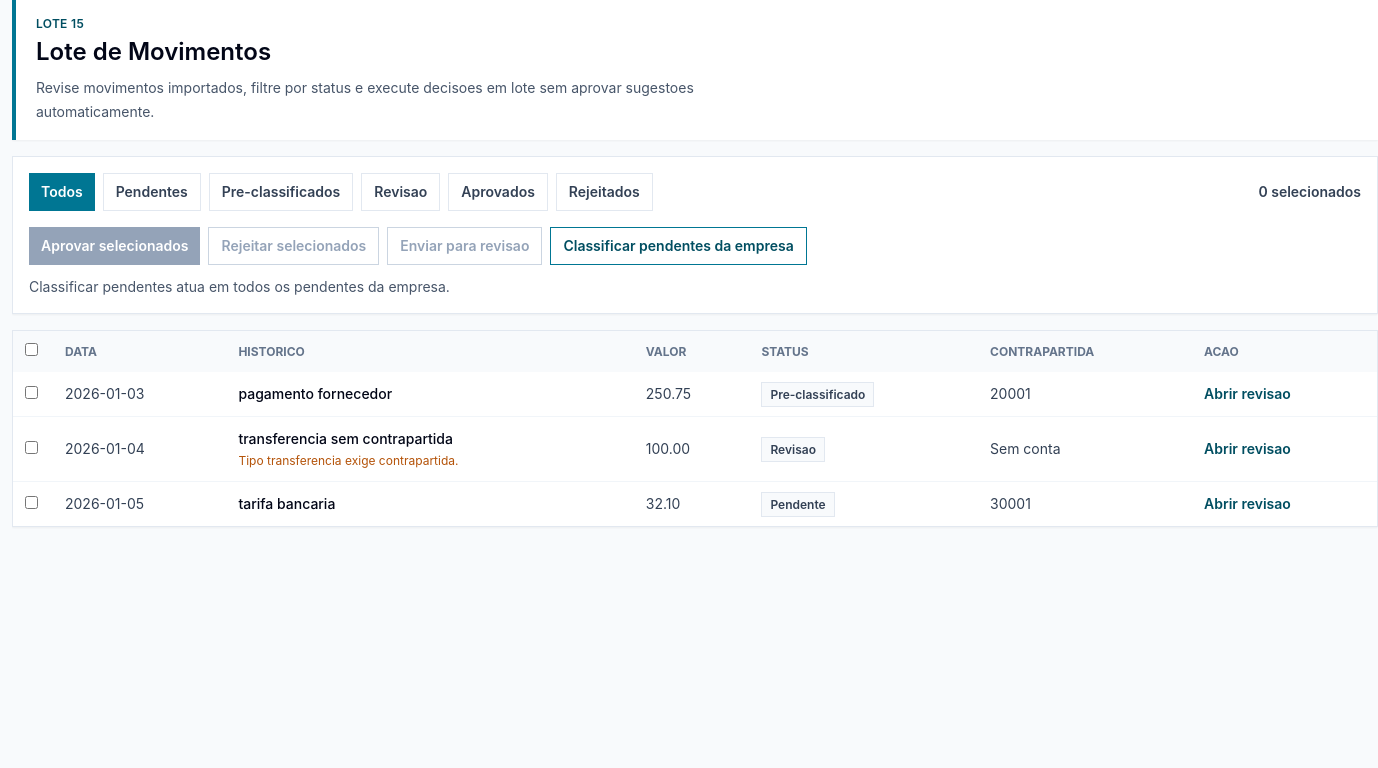
LoteMovimentosPage › mostra a razão de cada item não enviado
Expected: the text "pagamento fornecedor" is shown, x1=238 y1=385 x2=392 y2=402
Click the checkbox named "Selecionar movimento 91". click: [32, 392]
box: x1=25 y1=386 x2=38 y2=399
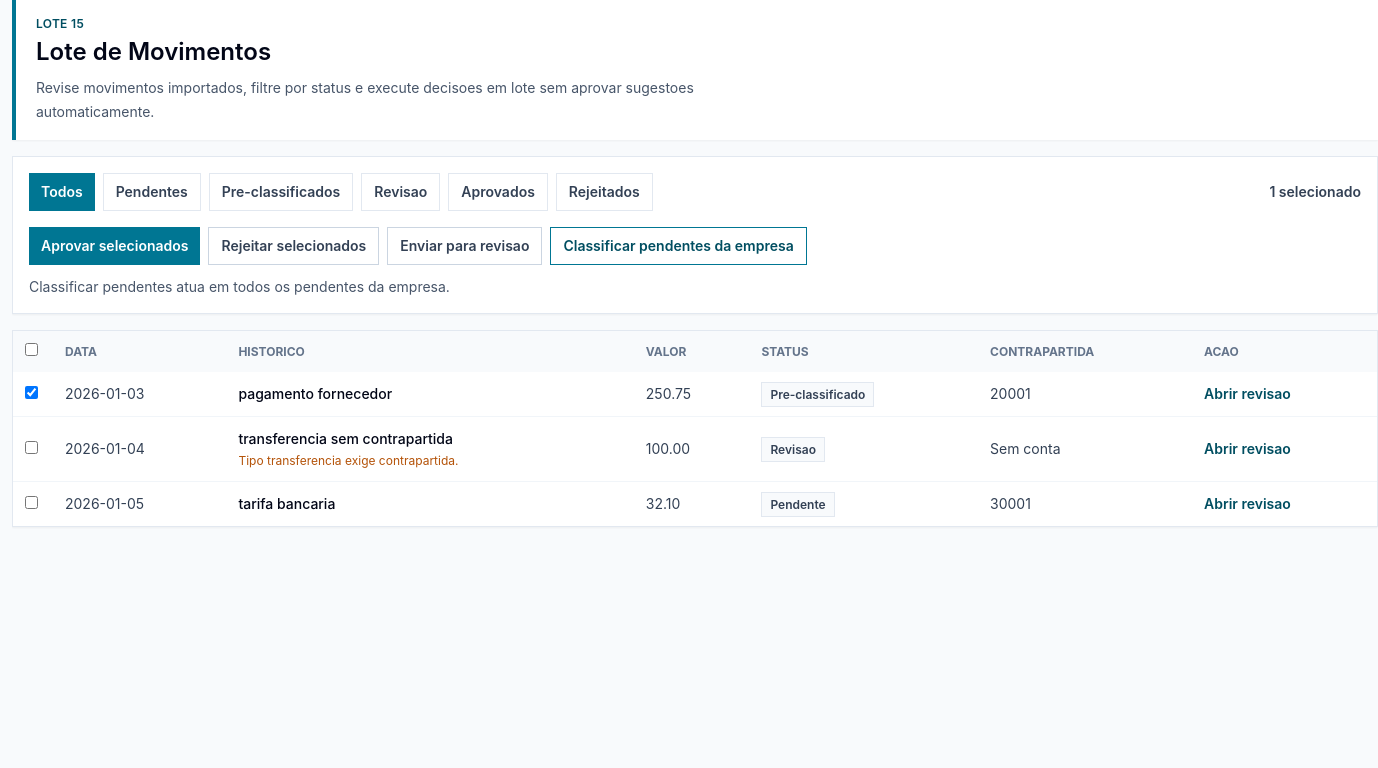
Click the checkbox named "Selecionar movimento 92". click: [32, 448]
box: x1=25 y1=441 x2=38 y2=454
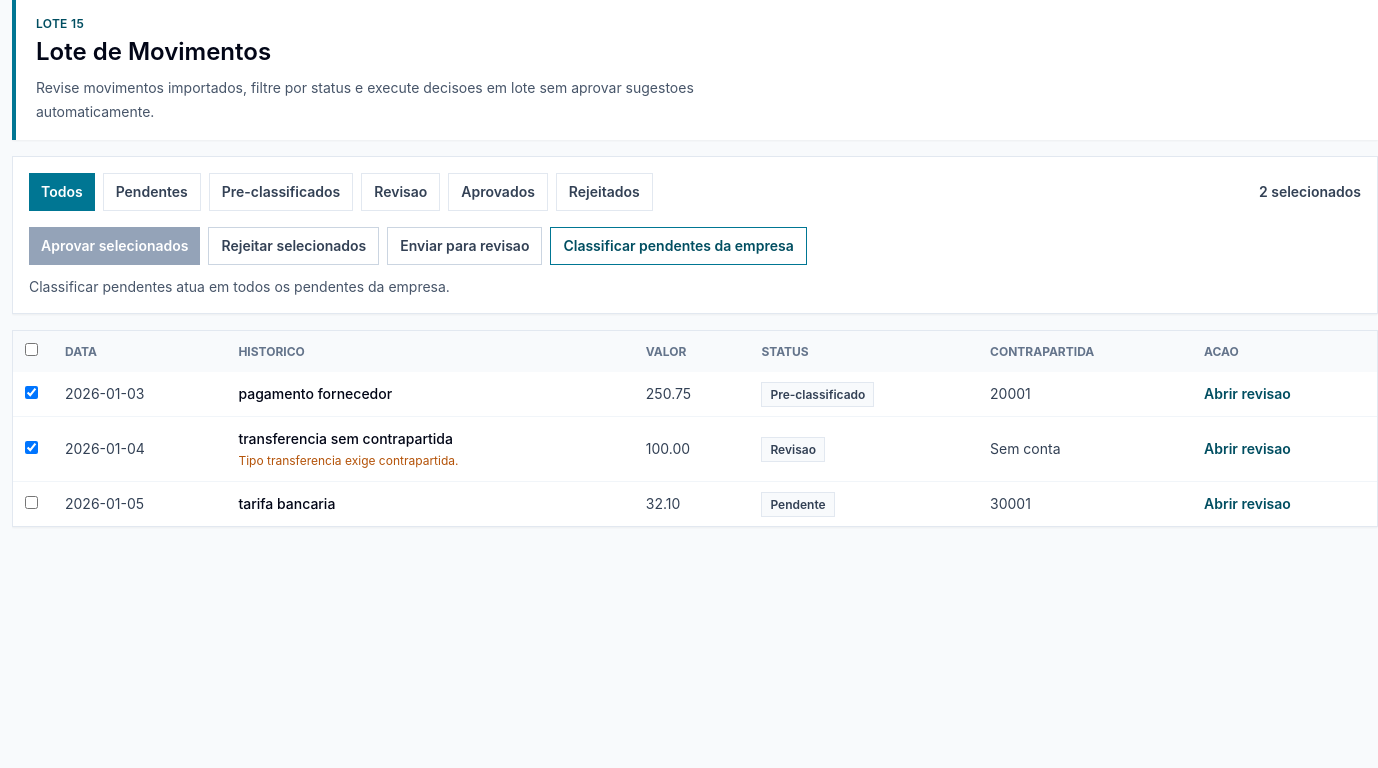
Click the button "Enviar para revisao". click: [465, 246]
box: x1=387 y1=227 x2=542 y2=265
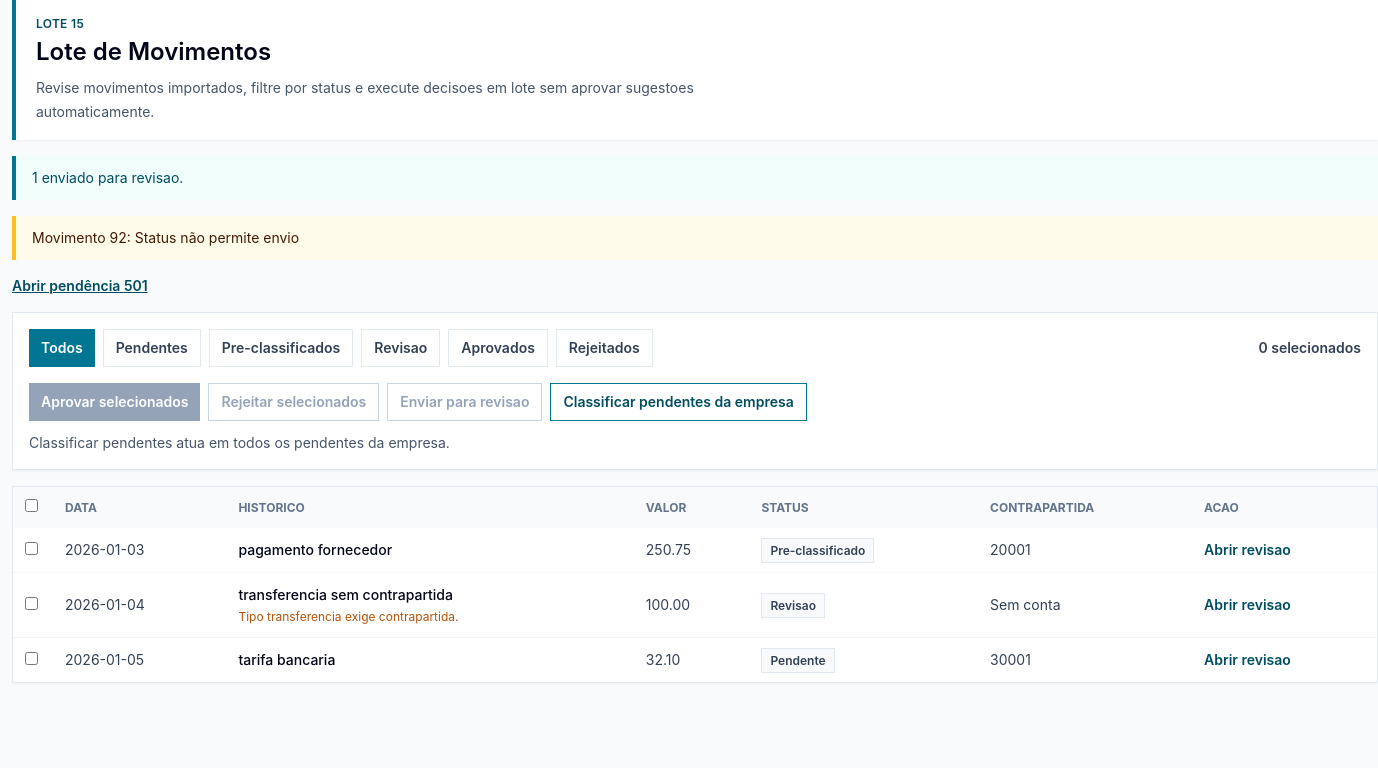
Expected: the message "Movimento 92: Status não permite envio" is shown, x1=12 y1=216 x2=1377 y2=260
Expected: the link "Abrir pendência 501" is shown, x1=12 y1=277 x2=148 y2=294
